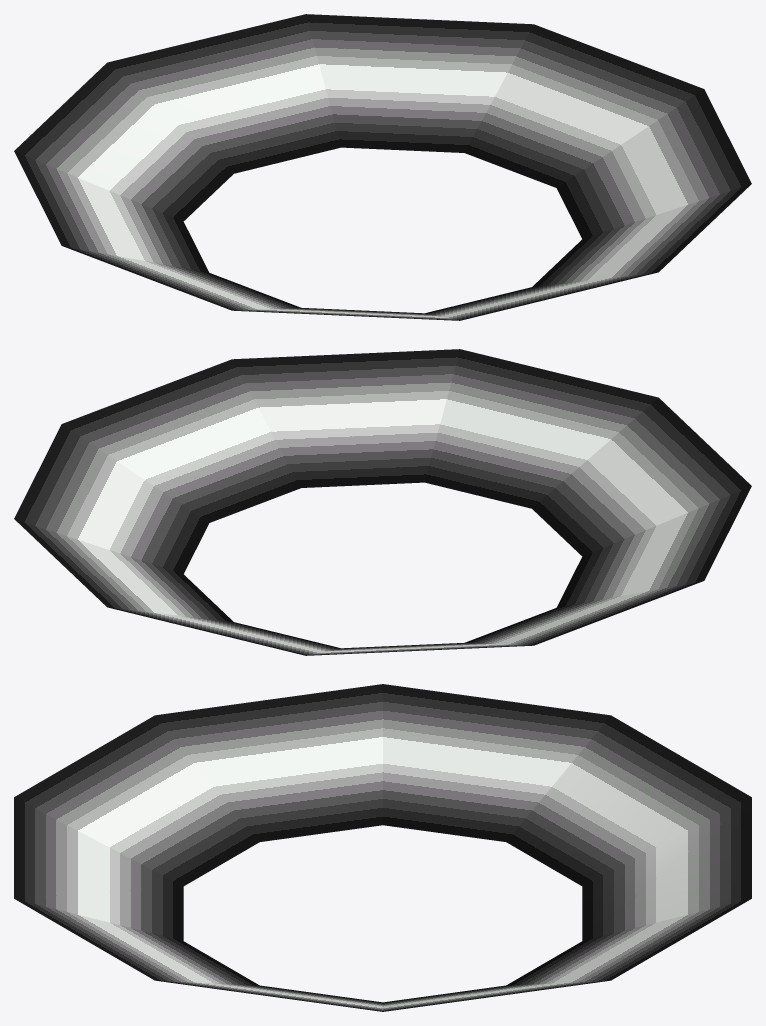
File: Ring.FBX
3 views of the same model, one above another, from view 1: azimuth 30°, elevation 25°; view 2: azimuth 150°, elevation 25°; view 3: azimuth 270°, elevation 25° (orthographic). The views are drawn at different scales.
Parts seen in each view (by area): view 1: manaBomb_SM; view 2: manaBomb_SM; view 3: manaBomb_SM.
Boxes of the visible parts, <box> form: manaBomb_SM: <box>14,14,751,320</box>; manaBomb_SM: <box>14,349,751,655</box>; manaBomb_SM: <box>14,684,751,1011</box>.
Bounding box in the file's own units: 3.33 × 0.3119 × 3.17.
